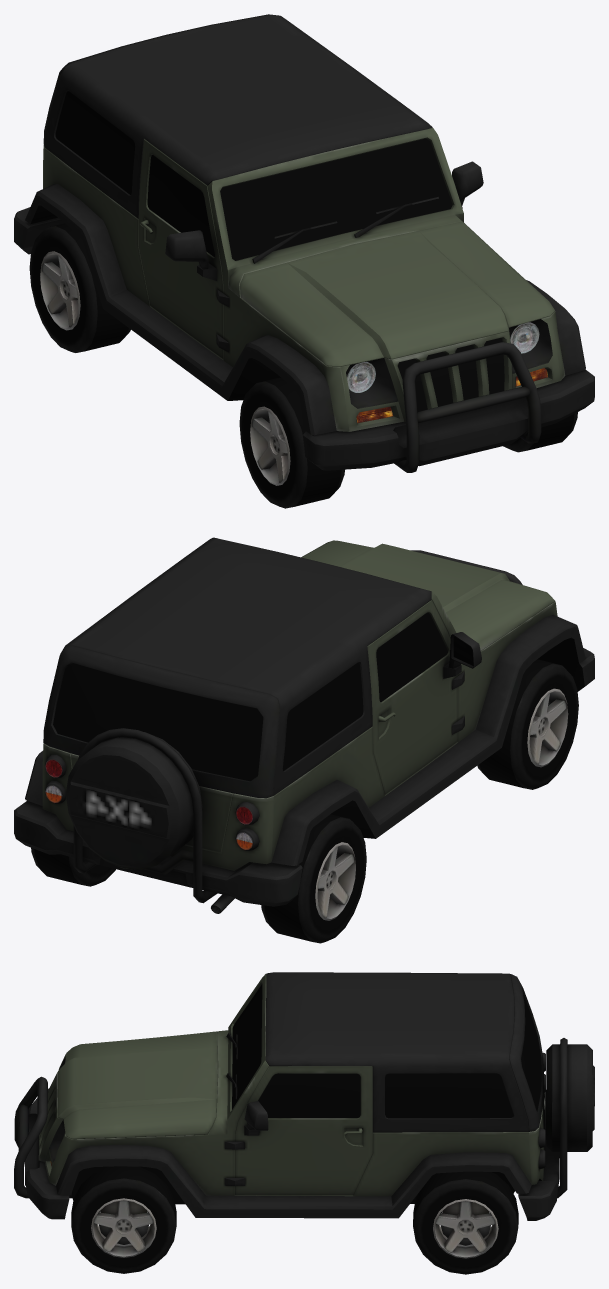
Rendered from offroad_olive.glb.
3 renders of one model, top to bottom at view 1: azimuth 30°, elevation 25°; view 2: azimuth 150°, elevation 25°; view 3: azimuth 270°, elevation 25°, orthographic. The views are drawn at different scales.
Parts seen in each view (by area): view 1: offroad body, Front Right Wheel, Rear Right Wheel, Front Left Wheel; view 2: offroad body, Front Right Wheel, Rear Right Wheel, Rear Left Wheel; view 3: offroad body, Front Left Wheel, Rear Left Wheel.
Part boxes in pixels (x1=…): offroad body: x1=14, y1=14, x2=594, y2=472; Front Right Wheel: x1=239, y1=377, x2=344, y2=508; Rear Right Wheel: x1=29, y1=223, x2=130, y2=352; Front Left Wheel: x1=503, y1=412, x2=577, y2=452; offroad body: x1=14, y1=537, x2=594, y2=913; Front Right Wheel: x1=477, y1=659, x2=578, y2=789; Rear Right Wheel: x1=261, y1=814, x2=366, y2=943; Rear Left Wheel: x1=31, y1=847, x2=115, y2=886; offroad body: x1=14, y1=972, x2=594, y2=1220; Front Left Wheel: x1=71, y1=1166, x2=176, y2=1273; Rear Left Wheel: x1=413, y1=1171, x2=518, y2=1274.
Size of the model in its own units: 1.96 by 1.57 by 3.94.
Materials: 1 (1 with a texture image).
